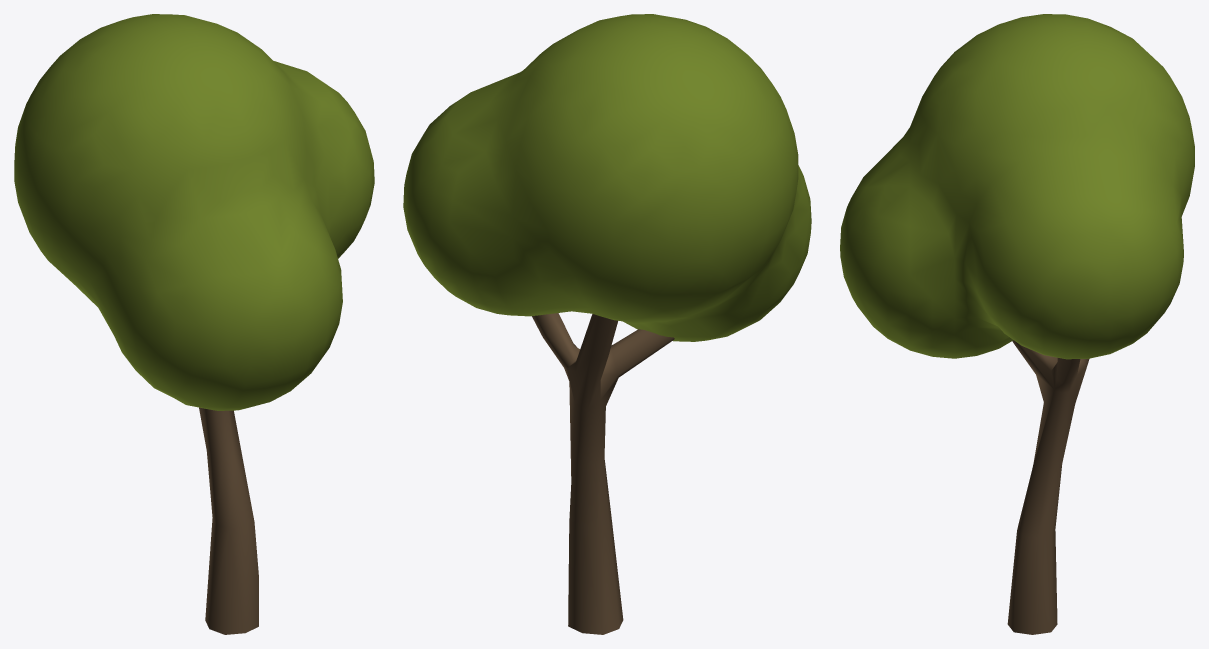
File: tree-d.glb
3 renders of one model, left to right at view 1: azimuth 30°, elevation 25°; view 2: azimuth 150°, elevation 25°; view 3: azimuth 270°, elevation 25°, orthographic. The views are drawn at different scales.
Visible parts, largest first — view 1: Tree_1; view 2: Tree_1; view 3: Tree_1.
Boxes of the visible parts, x1,y1,x2,y2 form: Tree_1: [14, 14, 374, 634]; Tree_1: [403, 14, 811, 634]; Tree_1: [840, 14, 1194, 634].
Size of the model in its own units: 3.44 by 5.86 by 3.31.
